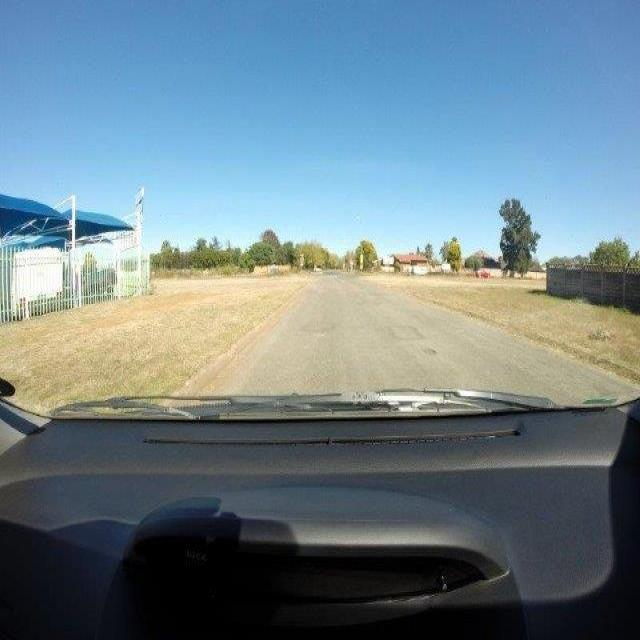lubang: (421, 346, 436, 354)
